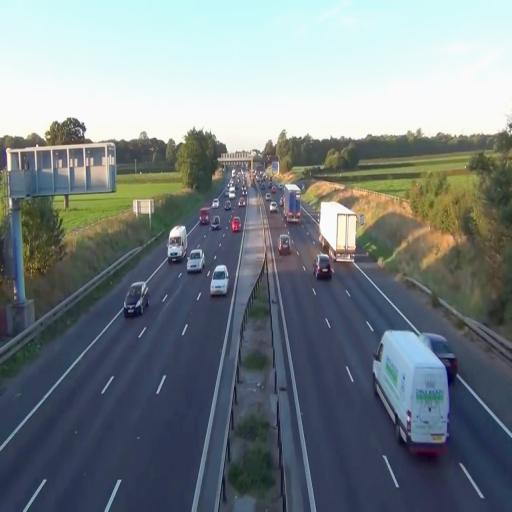vehicle: (372, 328, 451, 454), (372, 328, 450, 455), (319, 202, 357, 263), (124, 280, 148, 318), (167, 224, 188, 264), (283, 188, 302, 222), (209, 264, 229, 296), (314, 254, 332, 279), (187, 248, 204, 274), (276, 233, 292, 256), (230, 215, 242, 233), (210, 212, 221, 230), (199, 207, 209, 225)
